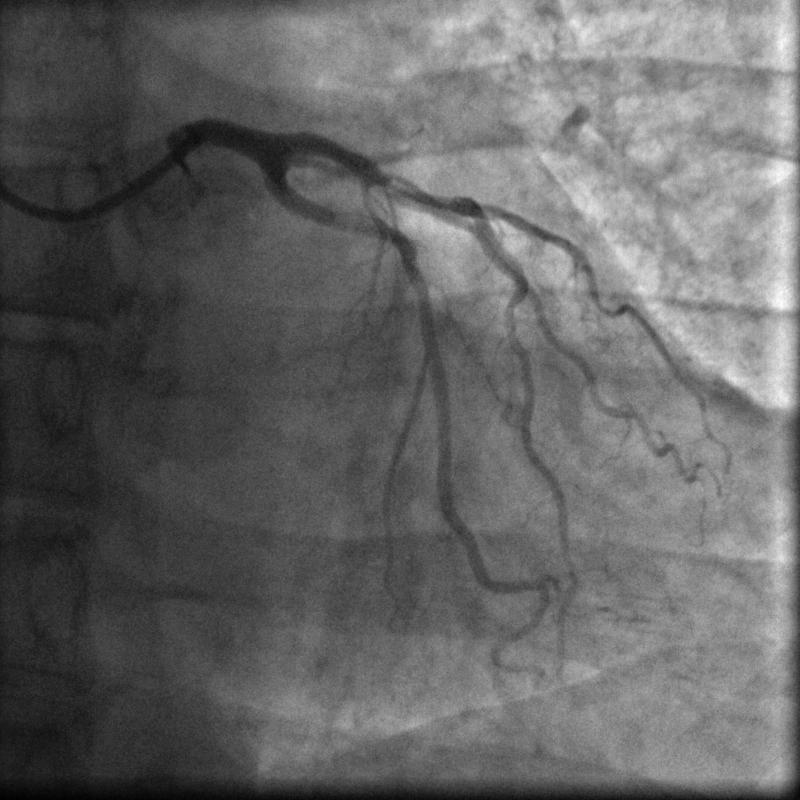Stenosis: (376, 171, 472, 211)
